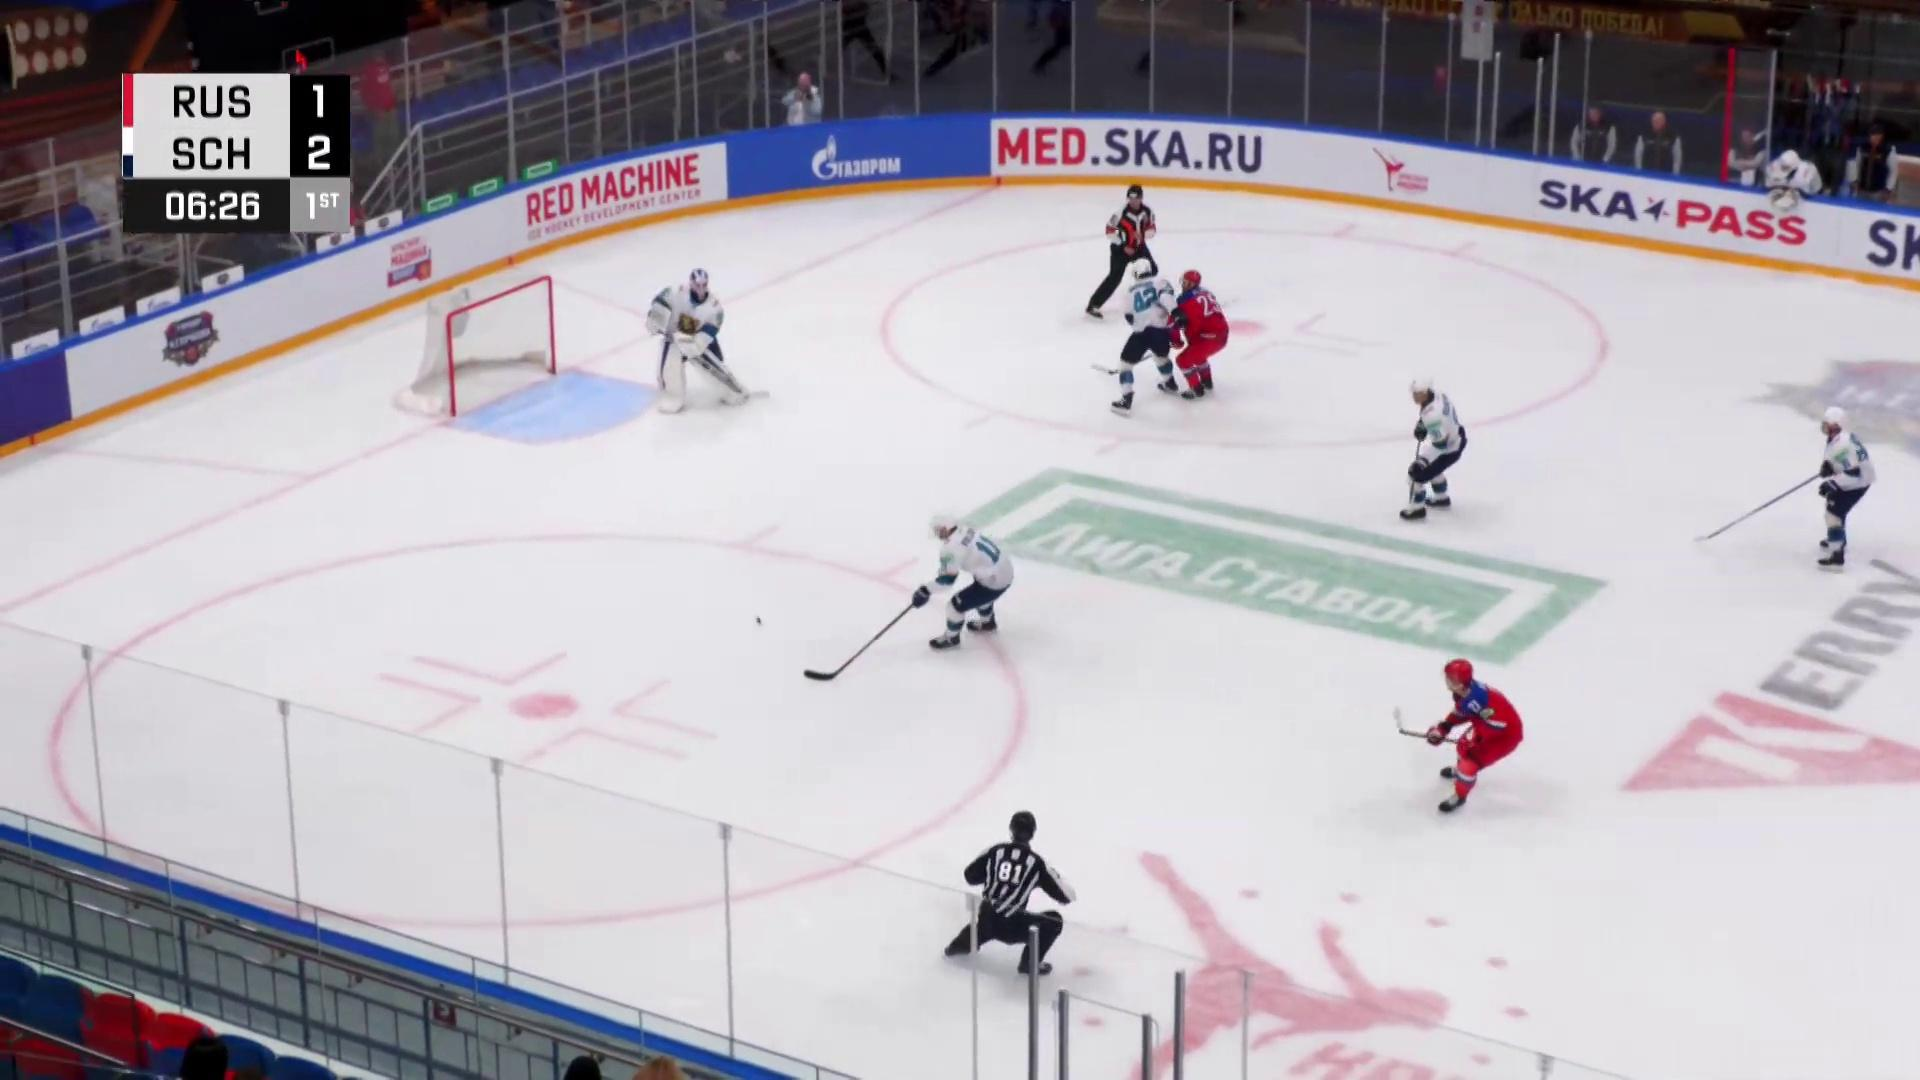ball: (757, 617, 761, 625)
